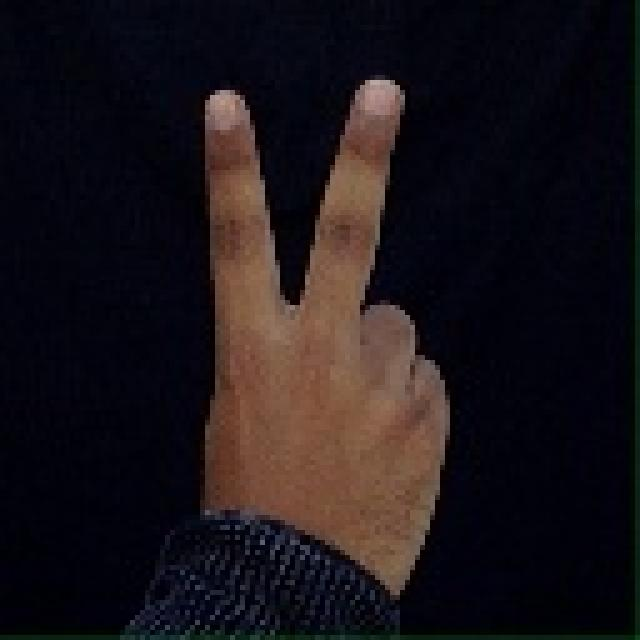V: (145, 41, 480, 606)
